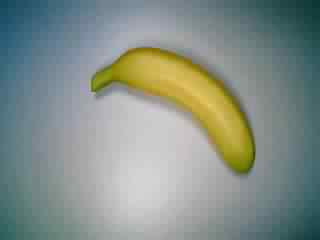banana: (85, 42, 261, 177)
